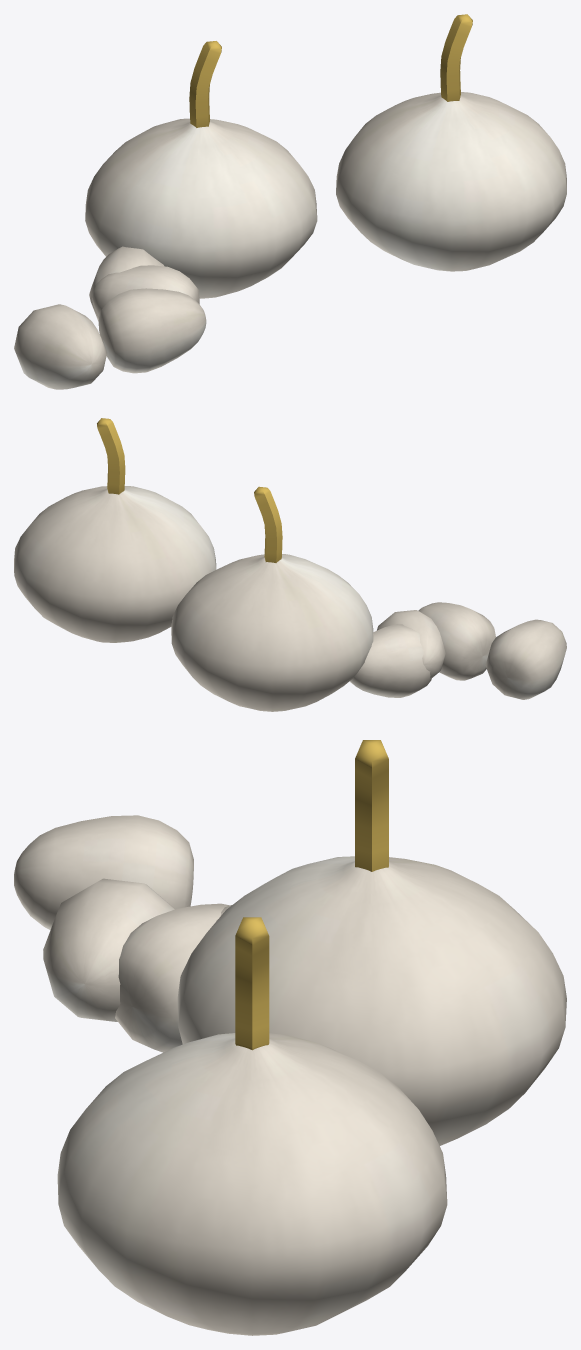
Rendered from veg_garlic_bulbs.glb.
3 renders of one model, top to bottom at view 1: azimuth 30°, elevation 25°; view 2: azimuth 150°, elevation 25°; view 3: azimuth 270°, elevation 25°, orthographic. The views are drawn at different scales.
Parts seen in each view (by area): view 1: veg_garlic_bulbs; view 2: veg_garlic_bulbs; view 3: veg_garlic_bulbs.
Boxes of the visible parts, x1,y1,x2,y2 form: veg_garlic_bulbs: (14,14,566,389); veg_garlic_bulbs: (14,418,566,711); veg_garlic_bulbs: (14,740,566,1335).
Bounding box in the file's own units: 0.1852 × 0.0747 × 0.0924.
2 materials, 1 textured.
